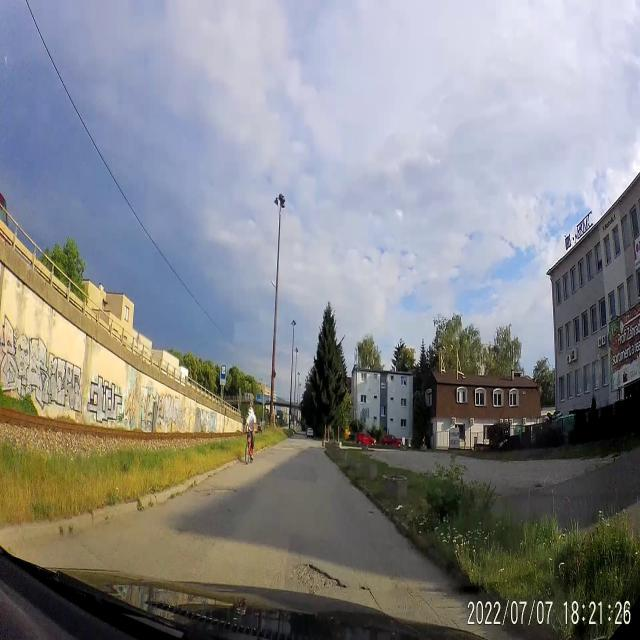Pothole: (290, 553, 348, 595), (352, 570, 388, 618), (197, 482, 237, 500), (352, 507, 382, 520)
